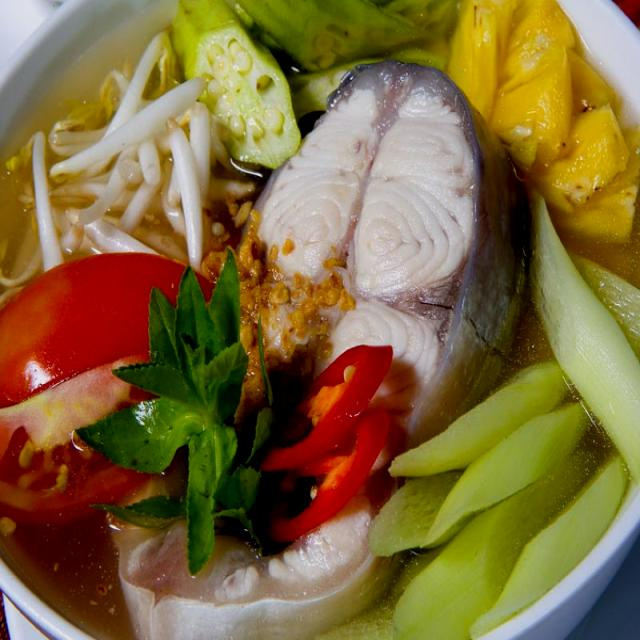canh chua: (1, 9, 640, 638)
